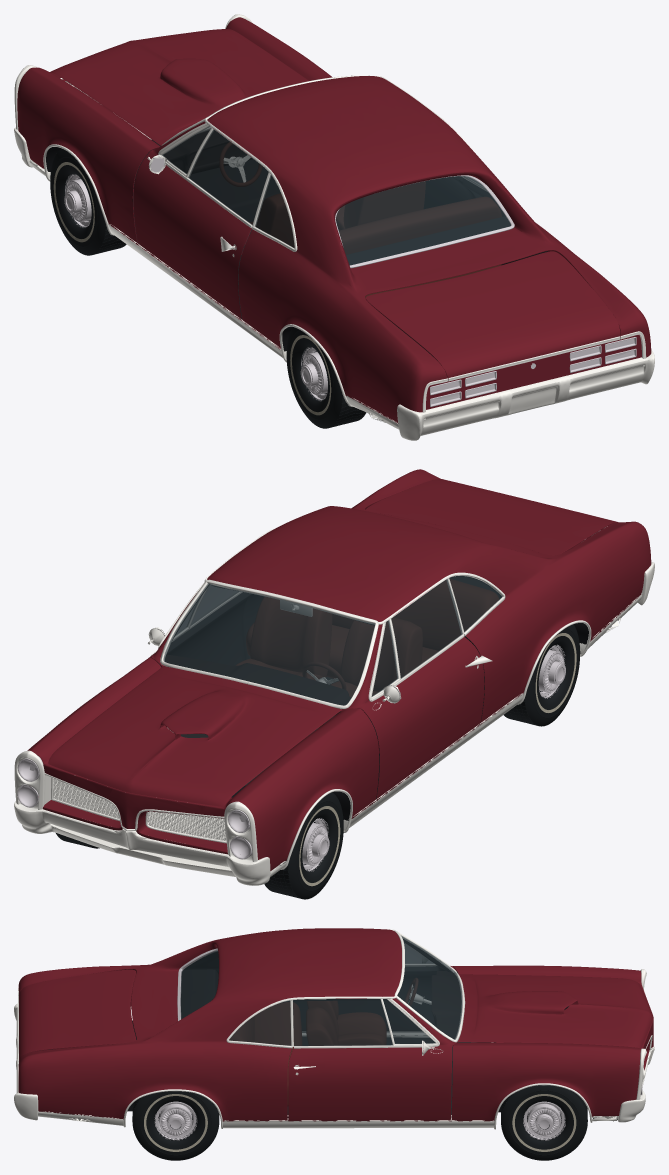
Rendered from gto-high.glb.
3 renders of one model, top to bottom at view 1: azimuth 30°, elevation 25°; view 2: azimuth 150°, elevation 25°; view 3: azimuth 270°, elevation 25°, orthographic. The views are drawn at different scales.
Visible parts, largest first — view 1: BODY_PAINT, GLASS, REAR_BUMPER, SEATS, STEEL_DETAILS, INNER_BODY, RL_WHEEL_MESH, FL_WHEEL_MESH, CHROME_TRIM, DASH; view 2: BODY_PAINT, GLASS, SEATS, REAR_BUMPER, STEEL_DETAILS, INNER_BODY, RL_WHEEL_MESH, FL_WHEEL_MESH, DASH, CHROME_TRIM, BLACK_TRIM; view 3: BODY_PAINT, GLASS, STEEL_DETAILS, RR_WHEEL_MESH, INNER_BODY, SEATS, FR_WHEEL_MESH, REAR_BUMPER, DASH, CHROME_TRIM.
Boxes of the visible parts, box(x1,y1,x2,y2) form: BODY_PAINT: box(17, 17, 651, 423); GLASS: box(162, 126, 510, 265); REAR_BUMPER: box(14, 14, 654, 440); SEATS: box(250, 181, 501, 297); STEEL_DETAILS: box(29, 75, 487, 429); INNER_BODY: box(133, 149, 547, 319); RL_WHEEL_MESH: box(50, 148, 126, 255); FL_WHEEL_MESH: box(286, 327, 366, 428); CHROME_TRIM: box(150, 157, 636, 406); DASH: box(164, 130, 252, 173); BODY_PAINT: box(27, 469, 651, 870); GLASS: box(163, 576, 502, 705); SEATS: box(236, 579, 498, 727); REAR_BUMPER: box(14, 526, 654, 885); STEEL_DETAILS: box(148, 528, 641, 877); INNER_BODY: box(158, 576, 501, 798); RL_WHEEL_MESH: box(264, 792, 343, 899); FL_WHEEL_MESH: box(504, 624, 580, 726); DASH: box(161, 655, 350, 723); CHROME_TRIM: box(17, 530, 600, 859); BLACK_TRIM: box(158, 623, 588, 839); BODY_PAINT: box(18, 928, 653, 1121); GLASS: box(180, 935, 462, 1046); STEEL_DETAILS: box(38, 928, 617, 1129); RR_WHEEL_MESH: box(501, 1085, 587, 1160); INNER_BODY: box(181, 939, 490, 1120); SEATS: box(229, 1001, 386, 1105); FR_WHEEL_MESH: box(132, 1091, 219, 1160); REAR_BUMPER: box(14, 969, 654, 1122); DASH: box(432, 971, 461, 1039); CHROME_TRIM: box(177, 948, 642, 1095).
Size of the model in its own units: 1.92 by 1.44 by 5.18.
